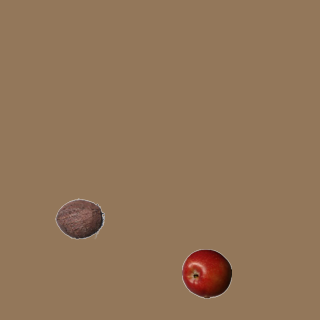Apple Braeburn: (181, 248, 231, 298)
Cocos: (54, 193, 104, 243)
